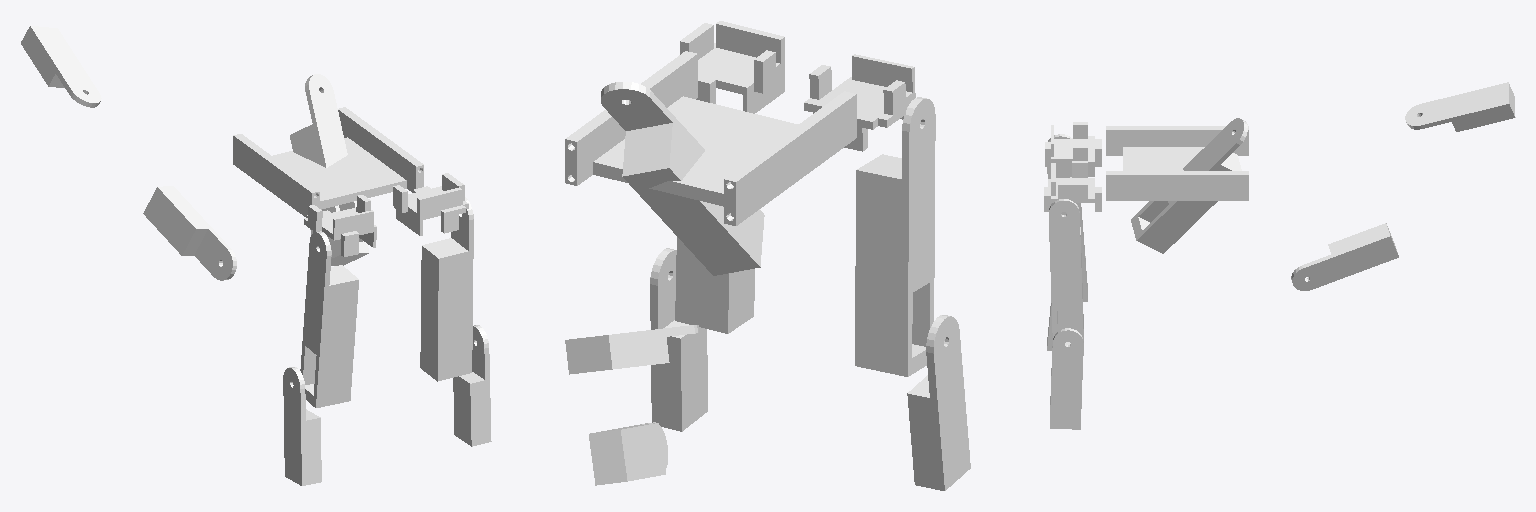
URDF robot description (chyPapa2):
<?xml version="1.0" encoding="utf-8"?>
<!-- This URDF was automatically created by SolidWorks to URDF Exporter! Originally created by [author] ([email redacted]) 
     Commit Version: 1.4.4-24-g24328f6  Build Version: 1.5.7084.36479
     For more information, please see http://wiki.ros.org/sw_urdf_exporter -->
<robot
  name="chyPapa2">
  <link
    name="Link_Body">
    <inertial>
      <origin
        xyz="0.0103110622754226 -0.138333813435703 -0.00633427200512993"
        rpy="0 0 0" />
      <mass
        value="0.140972114032924" />
      <inertia
        ixx="0.000172858210708355"
        ixy="-9.20364029032314E-08"
        ixz="-1.60625193941857E-06"
        iyy="0.000238776777529016"
        iyz="-1.46977761927676E-07"
        izz="0.000396584509314805" />
    </inertial>
    <visual>
      <origin
        xyz="0 0 0"
        rpy="0 0 0" />
      <geometry>
        <mesh
          filename="package://chyPapa2/meshes/Link_Body.STL" />
      </geometry>
      <material
        name="">
        <color
          rgba="1 1 1 1" />
      </material>
    </visual>
    <collision>
      <origin
        xyz="0 0 0"
        rpy="0 0 0" />
      <geometry>
        <mesh
          filename="package://chyPapa2/meshes/Link_Body.STL" />
      </geometry>
    </collision>
  </link>
  <link
    name="Link_Shoulder">
    <inertial>
      <origin
        xyz="-0.0274247665425242 -0.00816227985534069 0.0125762828596184"
        rpy="0 0 0" />
      <mass
        value="0.0207864363086098" />
      <inertia
        ixx="6.27146358863494E-06"
        ixy="3.91384833154346E-08"
        ixz="-1.74281855565268E-07"
        iyy="6.22523670847366E-06"
        iyz="-2.24464499683624E-07"
        izz="1.02843302670418E-05" />
    </inertial>
    <visual>
      <origin
        xyz="0 0 0"
        rpy="0 0 0" />
      <geometry>
        <mesh
          filename="package://chyPapa2/meshes/Link_Shoulder.STL" />
      </geometry>
      <material
        name="">
        <color
          rgba="1 1 1 1" />
      </material>
    </visual>
    <collision>
      <origin
        xyz="0 0 0"
        rpy="0 0 0" />
      <geometry>
        <mesh
          filename="package://chyPapa2/meshes/Link_Shoulder.STL" />
      </geometry>
    </collision>
  </link>
  <joint
    name="Joint_Shoulder_Body"
    type="revolute">
    <origin
      xyz="-0.024262 -0.21097 0.0042832"
      rpy="-3.1089 0 1.5708" />
    <parent
      link="Link_Body" />
    <child
      link="Link_Shoulder" />
    <axis
      xyz="1 0 0" />
    <limit
      lower="-0.5"
      upper="1.5"
      effort="0"
      velocity="0" />
    <safety_controller
      k_velocity="0" />
  </joint>
  <link
    name="Link_Arm">
    <inertial>
      <origin
        xyz="-0.0710876124947527 0.0340358908842903 -0.0177604221817192"
        rpy="0 0 0" />
      <mass
        value="0.108265195096751" />
      <inertia
        ixx="4.83910286989676E-05"
        ixy="5.63954736871045E-05"
        ixz="7.98486978154872E-06"
        iyy="0.000139263714036457"
        iyz="-3.82803849449154E-06"
        izz="0.000163044159957564" />
    </inertial>
    <visual>
      <origin
        xyz="0 0 0"
        rpy="0 0 0" />
      <geometry>
        <mesh
          filename="package://chyPapa2/meshes/Link_Arm.STL" />
      </geometry>
      <material
        name="">
        <color
          rgba="1 1 1 1" />
      </material>
    </visual>
    <collision>
      <origin
        xyz="0 0 0"
        rpy="0 0 0" />
      <geometry>
        <mesh
          filename="package://chyPapa2/meshes/Link_Arm.STL" />
      </geometry>
    </collision>
  </link>
  <joint
    name="Joint_Arm_Shoulder"
    type="revolute">
    <origin
      xyz="-0.039 -0.0050373 0.025"
      rpy="1.5708 1.0539 -3.1416" />
    <parent
      link="Link_Shoulder" />
    <child
      link="Link_Arm" />
    <axis
      xyz="0 0 1" />
    <limit
      lower="-1.5"
      upper="1.5"
      effort="0"
      velocity="0" />
    <safety_controller
      k_velocity="0" />
  </joint>
  <link
    name="Link_Hand">
    <inertial>
      <origin
        xyz="0.0536175359968078 0.0739272398889915 0.0110737358724703"
        rpy="0 0 0" />
      <mass
        value="0.0420735853495988" />
      <inertia
        ixx="6.79633343581309E-06"
        ixy="-6.55893416894574E-06"
        ixz="1.89928053845189E-06"
        iyy="2.45724016984148E-05"
        iyz="6.24920220189582E-07"
        izz="2.83575795096436E-05" />
    </inertial>
    <visual>
      <origin
        xyz="0 0 0"
        rpy="0 0 0" />
      <geometry>
        <mesh
          filename="package://chyPapa2/meshes/Link_Hand.STL" />
      </geometry>
      <material
        name="">
        <color
          rgba="1 1 1 1" />
      </material>
    </visual>
    <collision>
      <origin
        xyz="0 0 0"
        rpy="0 0 0" />
      <geometry>
        <mesh
          filename="package://chyPapa2/meshes/Link_Hand.STL" />
      </geometry>
    </collision>
  </link>
  <joint
    name="Joint_Hand_Arm"
    type="revolute">
    <origin
      xyz="-0.13 0 -0.031984"
      rpy="3.1416 0 2.8554" />
    <parent
      link="Link_Arm" />
    <child
      link="Link_Hand" />
    <axis
      xyz="0 0 1" />
    <limit
      lower="-1.5"
      upper="1.5"
      effort="0"
      velocity="0" />
    <safety_controller
      k_velocity="0" />
  </joint>
  <link
    name="Link_Shoulder_lf">
    <inertial>
      <origin
        xyz="0.0297444649113038 -0.0103661778761098 0.0113168142585662"
        rpy="0 0 0" />
      <mass
        value="0.024381282517391" />
      <inertia
        ixx="6.47635682118491E-06"
        ixy="-1.78209928375872E-07"
        ixz="5.84885132806064E-07"
        iyy="6.88016866534127E-06"
        iyz="-8.48693360788403E-07"
        izz="1.06252181988618E-05" />
    </inertial>
    <visual>
      <origin
        xyz="0 0 0"
        rpy="0 0 0" />
      <geometry>
        <mesh
          filename="package://chyPapa2/meshes/Link_Shoulder_lf.STL" />
      </geometry>
      <material
        name="">
        <color
          rgba="1 1 1 1" />
      </material>
    </visual>
    <collision>
      <origin
        xyz="0 0 0"
        rpy="0 0 0" />
      <geometry>
        <mesh
          filename="package://chyPapa2/meshes/Link_Shoulder_lf.STL" />
      </geometry>
    </collision>
  </link>
  <joint
    name="Joint_Shoulder_Body_lf"
    type="revolute">
    <origin
      xyz="0.044738 -0.21111 0.0042832"
      rpy="3.1357 0 -1.5708" />
    <parent
      link="Link_Body" />
    <child
      link="Link_Shoulder_lf" />
    <axis
      xyz="1 0 0" />
    <limit
      lower="-0.5"
      upper="1.5"
      effort="0"
      velocity="0" />
    <safety_controller
      k_velocity="0" />
  </joint>
  <link
    name="Link_Arm_lf">
    <inertial>
      <origin
        xyz="-0.07869107134756 -0.00442784469741125 -0.0187810440052837"
        rpy="0 0 0" />
      <mass
        value="0.108265195096751" />
      <inertia
        ixx="2.18665393901229E-05"
        ixy="-8.15777841067259E-06"
        ixz="8.84132248933236E-06"
        iyy="0.000165788203345302"
        iyz="4.92991666485187E-07"
        izz="0.000163044159957564" />
    </inertial>
    <visual>
      <origin
        xyz="0 0 0"
        rpy="0 0 0" />
      <geometry>
        <mesh
          filename="package://chyPapa2/meshes/Link_Arm_lf.STL" />
      </geometry>
      <material
        name="">
        <color
          rgba="1 1 1 1" />
      </material>
    </visual>
    <collision>
      <origin
        xyz="0 0 0"
        rpy="0 0 0" />
      <geometry>
        <mesh
          filename="package://chyPapa2/meshes/Link_Arm_lf.STL" />
      </geometry>
    </collision>
  </link>
  <joint
    name="Joint_Arm_Shoulder_lf"
    type="revolute">
    <origin
      xyz="0.036 -0.0043109 0.024951"
      rpy="-1.434 1.4843 0.13633" />
    <parent
      link="Link_Shoulder_lf" />
    <child
      link="Link_Arm_lf" />
    <axis
      xyz="0 0 1" />
    <limit
      lower="-1.5"
      upper="1.5"
      effort="0"
      velocity="0" />
    <safety_controller
      k_velocity="0" />
  </joint>
  <link
    name="Link_Hand_lf">
    <inertial>
      <origin
        xyz="0.0382235851535002 -0.037834395297675 0.0117025057426633"
        rpy="0 0 0" />
      <mass
        value="0.0420735853495988" />
      <inertia
        ixx="1.26222853010981E-05"
        ixy="1.061321913219E-05"
        ixz="1.59781337086335E-06"
        iyy="1.87464498331299E-05"
        iyz="-1.20199179582653E-06"
        izz="2.83575795096436E-05" />
    </inertial>
    <visual>
      <origin
        xyz="0 0 0"
        rpy="0 0 0" />
      <geometry>
        <mesh
          filename="package://chyPapa2/meshes/Link_Hand_lf.STL" />
      </geometry>
      <material
        name="">
        <color
          rgba="1 1 1 1" />
      </material>
    </visual>
    <collision>
      <origin
        xyz="0 0 0"
        rpy="0 0 0" />
      <geometry>
        <mesh
          filename="package://chyPapa2/meshes/Link_Hand_lf.STL" />
      </geometry>
    </collision>
  </link>
  <joint
    name="Joint_Hand_Arm_lf"
    type="revolute">
    <origin
      xyz="-0.13 0 -0.032376"
      rpy="3.1416 0 2.6143" />
    <parent
      link="Link_Arm_lf" />
    <child
      link="Link_Hand_lf" />
    <axis
      xyz="0 0 1" />
    <limit
      lower="-1.5"
      upper="1.5"
      effort="0"
      velocity="0" />
    <safety_controller
      k_velocity="0" />
  </joint>
  <link
    name="Link_Shoulder_re">
    <inertial>
      <origin
        xyz="-0.0252555849108747 -0.0102321643187586 0.0114381270782385"
        rpy="0 0 0" />
      <mass
        value="0.024381282517391" />
      <inertia
        ixx="6.47635682902833E-06"
        ixy="-1.71308517453452E-07"
        ixz="5.86943623501042E-07"
        iyy="6.86069697624157E-06"
        iyz="-8.04349947667647E-07"
        izz="1.0644689880118E-05" />
    </inertial>
    <visual>
      <origin
        xyz="0 0 0"
        rpy="0 0 0" />
      <geometry>
        <mesh
          filename="package://chyPapa2/meshes/Link_Shoulder_re.STL" />
      </geometry>
      <material
        name="">
        <color
          rgba="1 1 1 1" />
      </material>
    </visual>
    <collision>
      <origin
        xyz="0 0 0"
        rpy="0 0 0" />
      <geometry>
        <mesh
          filename="package://chyPapa2/meshes/Link_Shoulder_re.STL" />
      </geometry>
    </collision>
  </link>
  <joint
    name="Joint_Shoulder_Body_re"
    type="revolute">
    <origin
      xyz="-0.024189 -0.010105 0.0045518"
      rpy="-2.8097 0 1.5708" />
    <parent
      link="Link_Body" />
    <child
      link="Link_Shoulder_re" />
    <axis
      xyz="1 0 0" />
    <limit
      lower="-0.5"
      upper="1.5"
      effort="0"
      velocity="0" />
    <safety_controller
      k_velocity="0" />
  </joint>
  <link
    name="Link_Arm_re">
    <inertial>
      <origin
        xyz="-0.0788155464015625 -1.28029117703737E-05 -0.0227977426419542"
        rpy="0 0 0" />
      <mass
        value="0.108265195096751" />
      <inertia
        ixx="2.14056382437845E-05"
        ixy="-5.70861722950911E-08"
        ixz="8.85505589058663E-06"
        iyy="0.00016624910449164"
        iyz="-3.05257037534542E-09"
        izz="0.000163044159957564" />
    </inertial>
    <visual>
      <origin
        xyz="0 0 0"
        rpy="0 0 0" />
      <geometry>
        <mesh
          filename="package://chyPapa2/meshes/Link_Arm_re.STL" />
      </geometry>
      <material
        name="">
        <color
          rgba="1 1 1 1" />
      </material>
    </visual>
    <collision>
      <origin
        xyz="0 0 0"
        rpy="0 0 0" />
      <geometry>
        <mesh
          filename="package://chyPapa2/meshes/Link_Arm_re.STL" />
      </geometry>
    </collision>
  </link>
  <joint
    name="Joint_Arm_Shoulder_re"
    type="revolute">
    <origin
      xyz="-0.016 0 0.025"
      rpy="-1.5708 1.5389 0" />
    <parent
      link="Link_Shoulder_re" />
    <child
      link="Link_Arm_re" />
    <axis
      xyz="0 0 1" />
    <limit
      lower="-1.5"
      upper="1.5"
      effort="0"
      velocity="0" />
    <safety_controller
      k_velocity="0" />
  </joint>
  <link
    name="Link_Hand_re">
    <inertial>
      <origin
        xyz="0.0526382833749993 -6.93889390390723E-17 0.00897198634715779"
        rpy="0 0 0" />
      <mass
        value="0.0420735853495988" />
      <inertia
        ixx="4.63824751744344E-06"
        ixy="2.62116992505803E-20"
        ixz="1.99944788512829E-06"
        iyy="2.67304876167845E-05"
        iyz="-2.57937006310257E-21"
        izz="2.83575795096436E-05" />
    </inertial>
    <visual>
      <origin
        xyz="0 0 0"
        rpy="0 0 0" />
      <geometry>
        <mesh
          filename="package://chyPapa2/meshes/Link_Hand_re.STL" />
      </geometry>
      <material
        name="">
        <color
          rgba="1 1 1 1" />
      </material>
    </visual>
    <collision>
      <origin
        xyz="0 0 0"
        rpy="0 0 0" />
      <geometry>
        <mesh
          filename="package://chyPapa2/meshes/Link_Hand_re.STL" />
      </geometry>
    </collision>
  </link>
  <joint
    name="Joint_Hand_Arm_re"
    type="revolute">
    <origin
      xyz="-0.13 0 -0.039123"
      rpy="-3.1416 0 -3.1308" />
    <parent
      link="Link_Arm_re" />
    <child
      link="Link_Hand_re" />
    <axis
      xyz="0 0 1" />
    <limit
      lower="-1.5"
      upper="1.5"
      effort="0"
      velocity="0" />
    <safety_controller
      k_velocity="0" />
  </joint>
  <link
    name="Link_Shoulder_le">
    <inertial>
      <origin
        xyz="0.00857528317052155 -0.0271622797724547 -0.0124237177123403"
        rpy="0 0 0" />
      <mass
        value="0.0207864363086098" />
      <inertia
        ixx="6.27146359614103E-06"
        ixy="3.91384878570594E-08"
        ixz="-1.74281939934302E-07"
        iyy="6.22523670823709E-06"
        iyz="-2.24464498340633E-07"
        izz="1.02843302597723E-05" />
    </inertial>
    <visual>
      <origin
        xyz="0 0 0"
        rpy="0 0 0" />
      <geometry>
        <mesh
          filename="package://chyPapa2/meshes/Link_Shoulder_le.STL" />
      </geometry>
      <material
        name="">
        <color
          rgba="1 1 1 1" />
      </material>
    </visual>
    <collision>
      <origin
        xyz="0 0 0"
        rpy="0 0 0" />
      <geometry>
        <mesh
          filename="package://chyPapa2/meshes/Link_Shoulder_le.STL" />
      </geometry>
    </collision>
  </link>
  <joint
    name="Joint_Shoulder_Body_le"
    type="revolute">
    <origin
      xyz="0.044811 -0.010105 0.0045518"
      rpy="0 0.54918 0" />
    <parent
      link="Link_Body" />
    <child
      link="Link_Shoulder_le" />
    <axis
      xyz="0 1 0" />
    <limit
      lower="-0.5"
      upper="1.5"
      effort="0"
      velocity="0" />
    <safety_controller
      k_velocity="0" />
  </joint>
  <link
    name="Link_Arm_le">
    <inertial>
      <origin
        xyz="-0.0788155464015625 -1.2802911770346E-05 -0.022666833245342"
        rpy="0 0 0" />
      <mass
        value="0.108265195096751" />
      <inertia
        ixx="2.14056382437845E-05"
        ixy="-5.70861722950318E-08"
        ixz="8.85505589058666E-06"
        iyy="0.00016624910449164"
        iyz="-3.05257037533477E-09"
        izz="0.000163044159957564" />
    </inertial>
    <visual>
      <origin
        xyz="0 0 0"
        rpy="0 0 0" />
      <geometry>
        <mesh
          filename="package://chyPapa2/meshes/Link_Arm_le.STL" />
      </geometry>
      <material
        name="">
        <color
          rgba="1 1 1 1" />
      </material>
    </visual>
    <collision>
      <origin
        xyz="0 0 0"
        rpy="0 0 0" />
      <geometry>
        <mesh
          filename="package://chyPapa2/meshes/Link_Arm_le.STL" />
      </geometry>
    </collision>
  </link>
  <joint
    name="Joint_Arm_Shoulder_le"
    type="revolute">
    <origin
      xyz="0 -0.019 -0.025"
      rpy="1.5708 -1.2852 -1.5708" />
    <parent
      link="Link_Shoulder_le" />
    <child
      link="Link_Arm_le" />
    <axis
      xyz="0 0 1" />
    <limit
      lower="-1.5"
      upper="1.5"
      effort="0"
      velocity="0" />
    <safety_controller
      k_velocity="0" />
  </joint>
  <link
    name="Link_Hand_le">
    <inertial>
      <origin
        xyz="0.00763828337499933 -1.04083408558608E-17 0.0110950761202187"
        rpy="0 0 0" />
      <mass
        value="0.0420735853495988" />
      <inertia
        ixx="4.63824751744344E-06"
        ixy="2.6112437577074E-20"
        ixz="1.99944788512829E-06"
        iyy="2.67304876167845E-05"
        iyz="-2.53966539370003E-21"
        izz="2.83575795096436E-05" />
    </inertial>
    <visual>
      <origin
        xyz="0 0 0"
        rpy="0 0 0" />
      <geometry>
        <mesh
          filename="package://chyPapa2/meshes/Link_Hand_le.STL" />
      </geometry>
      <material
        name="">
        <color
          rgba="1 1 1 1" />
      </material>
    </visual>
    <collision>
      <origin
        xyz="0 0 0"
        rpy="0 0 0" />
      <geometry>
        <mesh
          filename="package://chyPapa2/meshes/Link_Hand_le.STL" />
      </geometry>
    </collision>
  </link>
  <joint
    name="Joint_Hand_Arm_le"
    type="revolute">
    <origin
      xyz="-0.20495 -0.062371 0.051881"
      rpy="0.0046643 0.21725 -2.8343" />
    <parent
      link="Link_Arm_le" />
    <child
      link="Link_Hand_le" />
    <axis
      xyz="0 0 0" />
    <limit
      lower="0"
      upper="0"
      effort="0"
      velocity="0" />
    <safety_controller
      k_velocity="0" />
  </joint>
</robot>

--- Render facts (derived) ---
3 views of the same robot in one strip: view 1: azimuth 30°, elevation 25°; view 2: azimuth 150°, elevation 25°; view 3: azimuth 270°, elevation 25° (orthographic).
Model chyPapa2 with 13 links and 12 joints (12 revolute), rooted at Link_Body, posed every joint at zero.
Visible links, largest first — view 1: Link_Body, Link_Arm, Link_Arm_lf, Link_Hand_le, Link_Arm_le, Link_Hand, Link_Hand_lf, Link_Hand_re, Link_Shoulder_lf, Link_Shoulder; view 2: Link_Body, Link_Arm, Link_Arm_le, Link_Hand, Link_Shoulder_lf, Link_Hand_lf, Link_Shoulder, Link_Arm_lf, Link_Hand_le, Link_Hand_re; view 3: Link_Body, Link_Arm_le, Link_Arm_lf, Link_Hand_le, Link_Hand_re, Link_Hand_lf, Link_Shoulder, Link_Shoulder_lf, Link_Arm.
Boxes of the visible links, x1,y1,x2,y2 form: Link_Body: (233,107,423,216); Link_Arm: (300,231,358,407); Link_Arm_lf: (420,197,473,381); Link_Hand_le: (143,186,236,280); Link_Arm_le: (290,74,368,265); Link_Hand: (283,367,321,485); Link_Hand_lf: (453,325,491,446); Link_Hand_re: (21,26,101,107); Link_Shoulder_lf: (393,173,468,235); Link_Shoulder: (304,195,376,256); Link_Body: (565,51,856,225); Link_Arm: (855,97,935,376); Link_Arm_le: (601,82,764,275); Link_Hand: (907,315,970,490); Link_Shoulder_lf: (680,21,784,113); Link_Hand_lf: (650,248,707,431); Link_Shoulder: (804,54,915,151); Link_Arm_lf: (675,237,754,333); Link_Hand_le: (589,422,667,485); Link_Hand_re: (565,325,698,374); Link_Body: (1106,126,1248,200); Link_Arm_le: (1131,118,1247,253); Link_Arm_lf: (1049,199,1083,355); Link_Hand_le: (1291,223,1398,290); Link_Hand_re: (1405,82,1515,131); Link_Hand_lf: (1050,328,1083,429); Link_Shoulder: (1045,122,1101,176); Link_Shoulder_lf: (1044,161,1101,211); Link_Arm: (1047,134,1087,301).
Size in the robot's own frame: 0.2204 by 0.454 by 0.2963 metres.
10 mesh visuals loaded from 13 distinct referenced files (10 binary STL); not drawn: 3 (reference not matched to a file when rendering).
